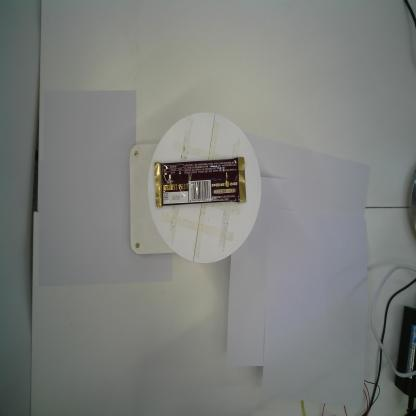Chocolate: (152, 155, 248, 210)
